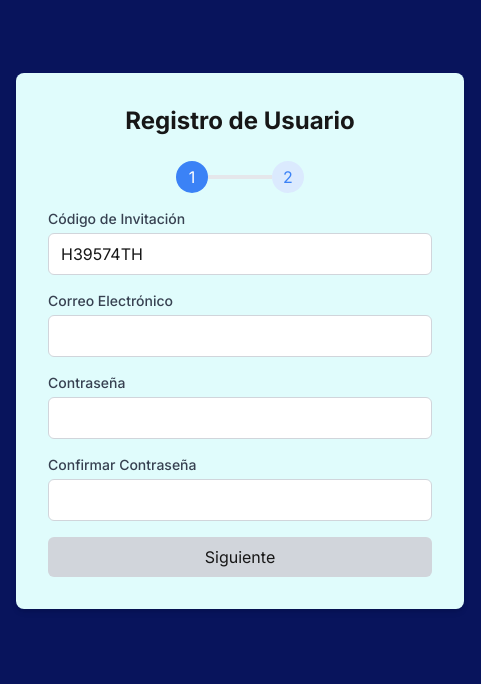
Test: RegisterFormUser › rechaza contraseñas de menos de 6 caracteres
Type "persona@correo.test" into the field labelled "Correo Electrónico" at (240, 336), box [48,315,432,357]
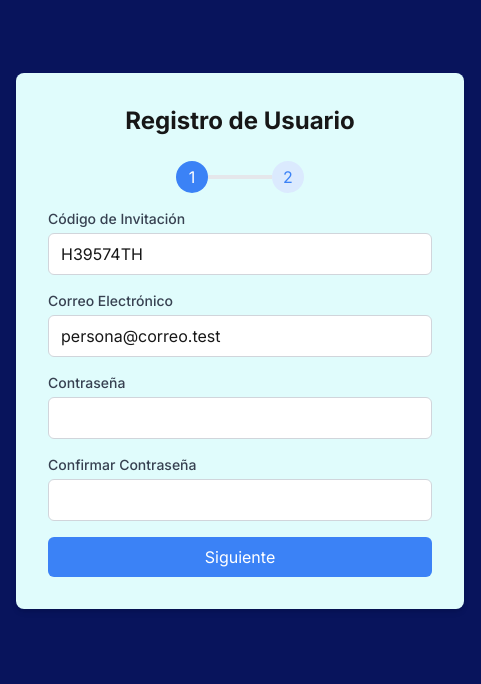
Type "123" into the password field labelled "Contraseña" at (240, 418), box [48,397,432,439]
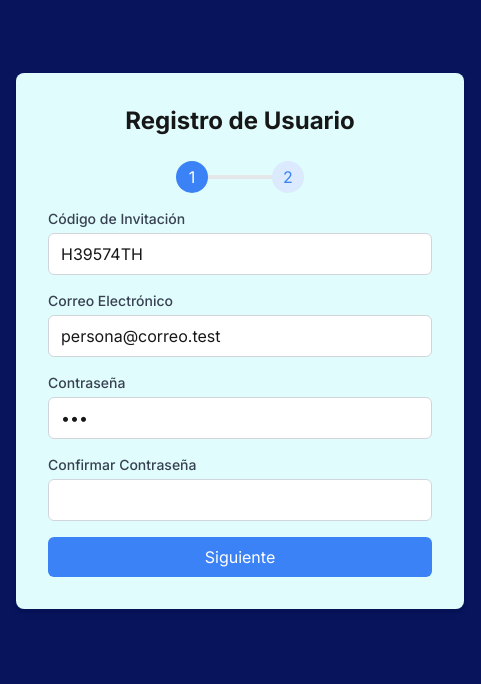
Type "123" into the password field labelled "Confirmar Contraseña" at (240, 500), box [48,479,432,521]
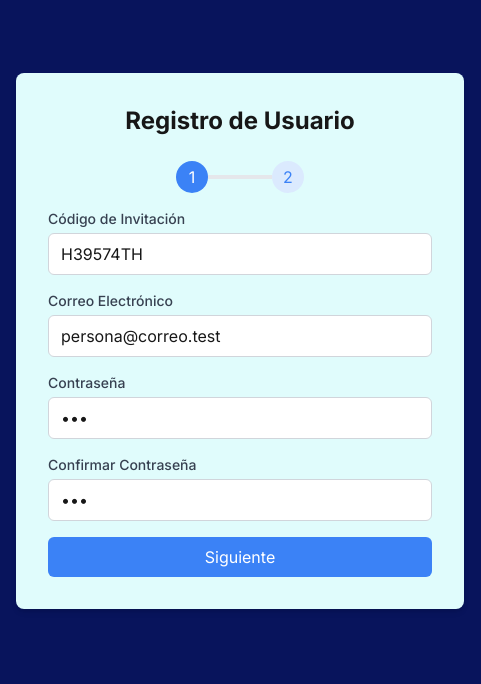
Click the button "Siguiente" at (240, 557), box [48,537,432,577]
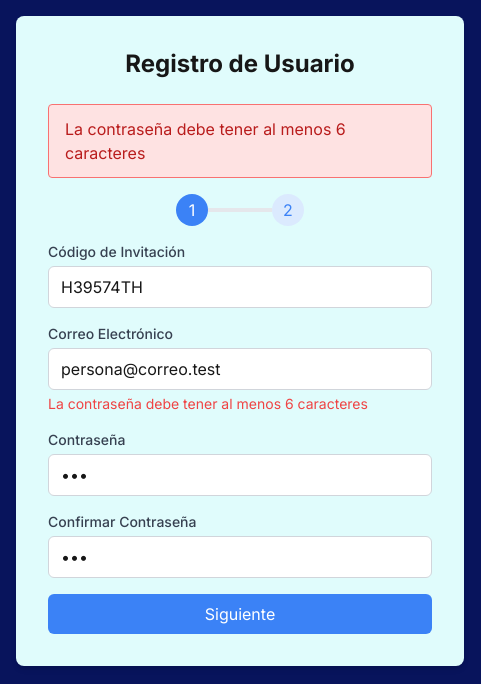
Now the 1st text "La contraseña debe tener al menos 6 caracteres" is shown, box [48,104,432,178]
